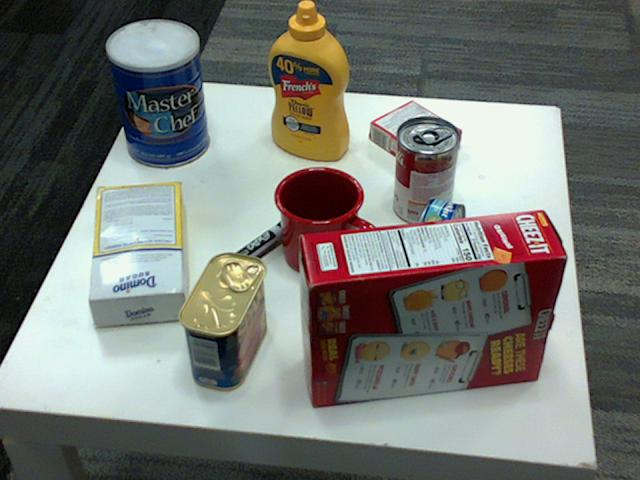cracker_box: (299, 207, 565, 404)
gelatin_box: (371, 100, 462, 168)
large_marker: (209, 215, 297, 287)
master_chef_can: (104, 20, 207, 168)
mug: (273, 164, 377, 273)
mustard_bottle: (267, 1, 349, 160)
potted_meat_can: (179, 252, 267, 390)
sugar_box: (88, 179, 187, 323)
tomato_soup_can: (392, 117, 458, 225)
tuna_fish_can: (409, 197, 465, 284)
